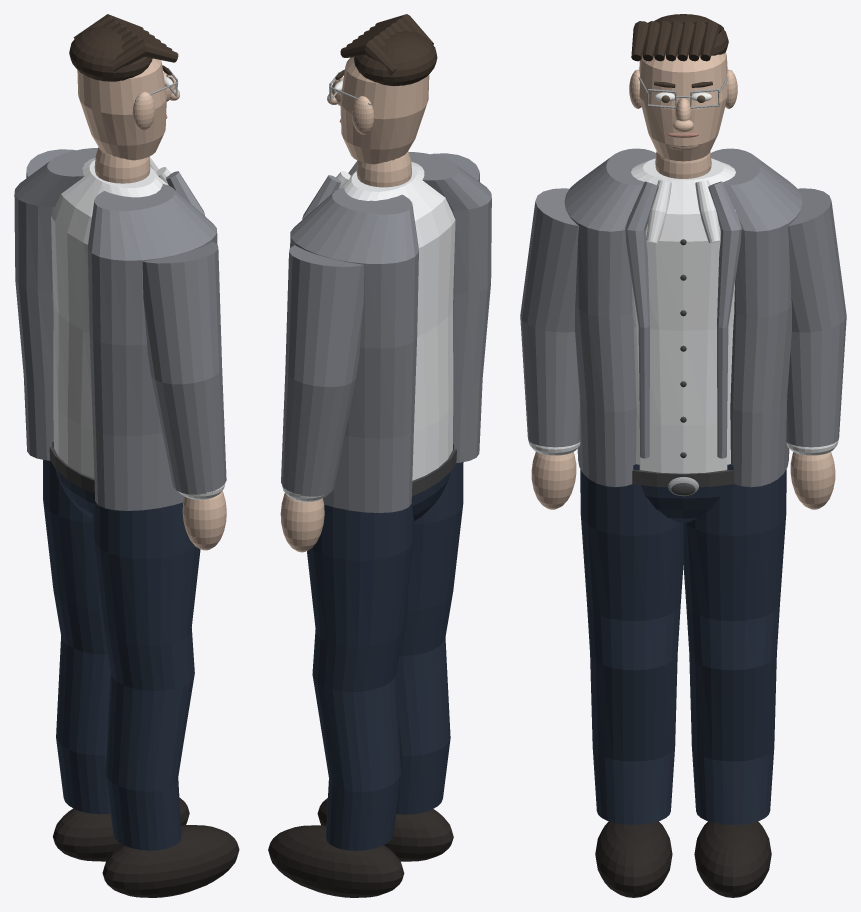
File: person.glb
The picture shows the model from 3 angles, left to right: view 1: azimuth 30°, elevation 25°; view 2: azimuth 150°, elevation 25°; view 3: azimuth 270°, elevation 25°; orthographic projection.
Size of the model in its own units: 0.3462 by 1.8 by 0.6257.
